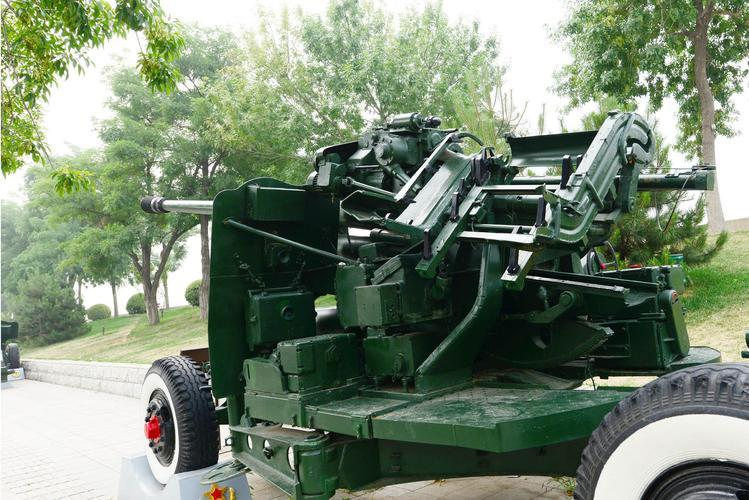MIL_SPG: (142, 111, 749, 499)
